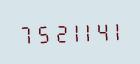five: (32, 21, 46, 44)
four: (92, 19, 106, 42)
one: (77, 19, 91, 43), (107, 18, 121, 42), (62, 20, 76, 43)
seven: (17, 21, 31, 45)
two: (47, 20, 61, 44)
